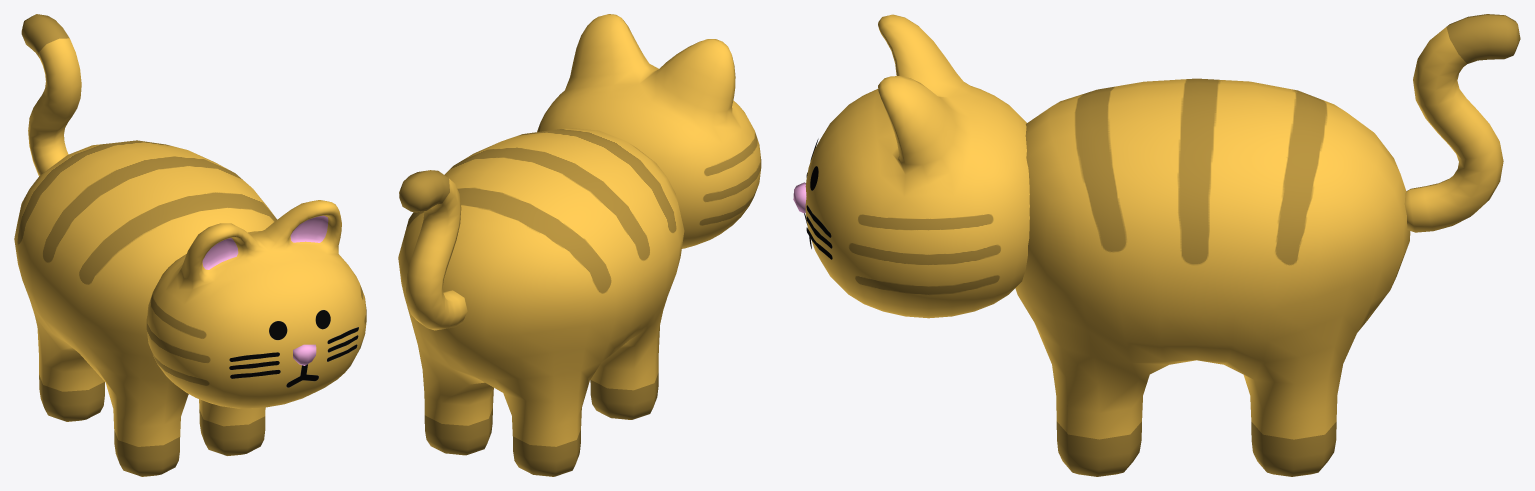
Rendered from cat.glb.
The picture shows the model from 3 angles, left to right: view 1: azimuth 30°, elevation 25°; view 2: azimuth 150°, elevation 25°; view 3: azimuth 270°, elevation 25°; orthographic projection. The views are drawn at different scales.
Visible parts, largest first — view 1: Cube.008, Cube.009, Vert.002; view 2: Cube.008, Cube.009, Vert.002; view 3: Cube.008, Cube.009, Vert.002.
Part boxes in pixels (x1,y1,x2,y2): Cube.008: (14, 140, 277, 476); Cube.009: (146, 200, 366, 408); Vert.002: (21, 14, 81, 175); Cube.008: (398, 128, 684, 476); Cube.009: (537, 14, 761, 248); Vert.002: (399, 170, 467, 330); Cube.008: (1015, 78, 1410, 476); Cube.009: (793, 14, 1029, 318); Vert.002: (1404, 14, 1520, 232).
Size of the model in its own units: 0.9956 by 1.46 by 2.24.
2 materials, 2 textured.
